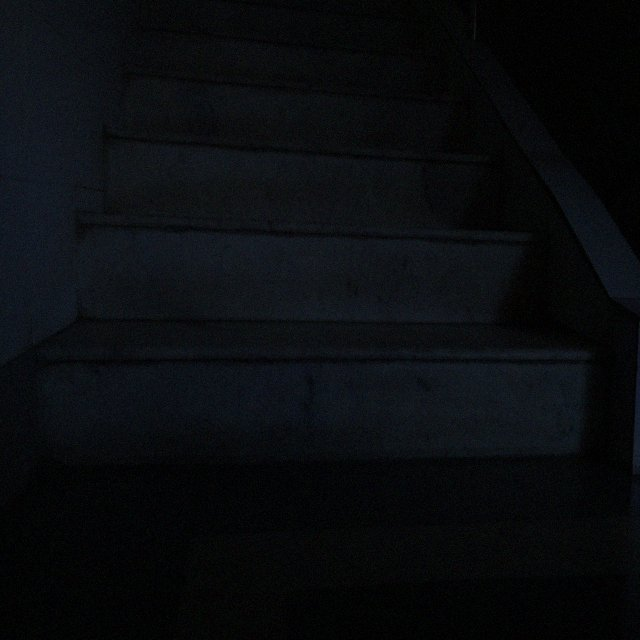stair: (37, 0, 608, 462)
